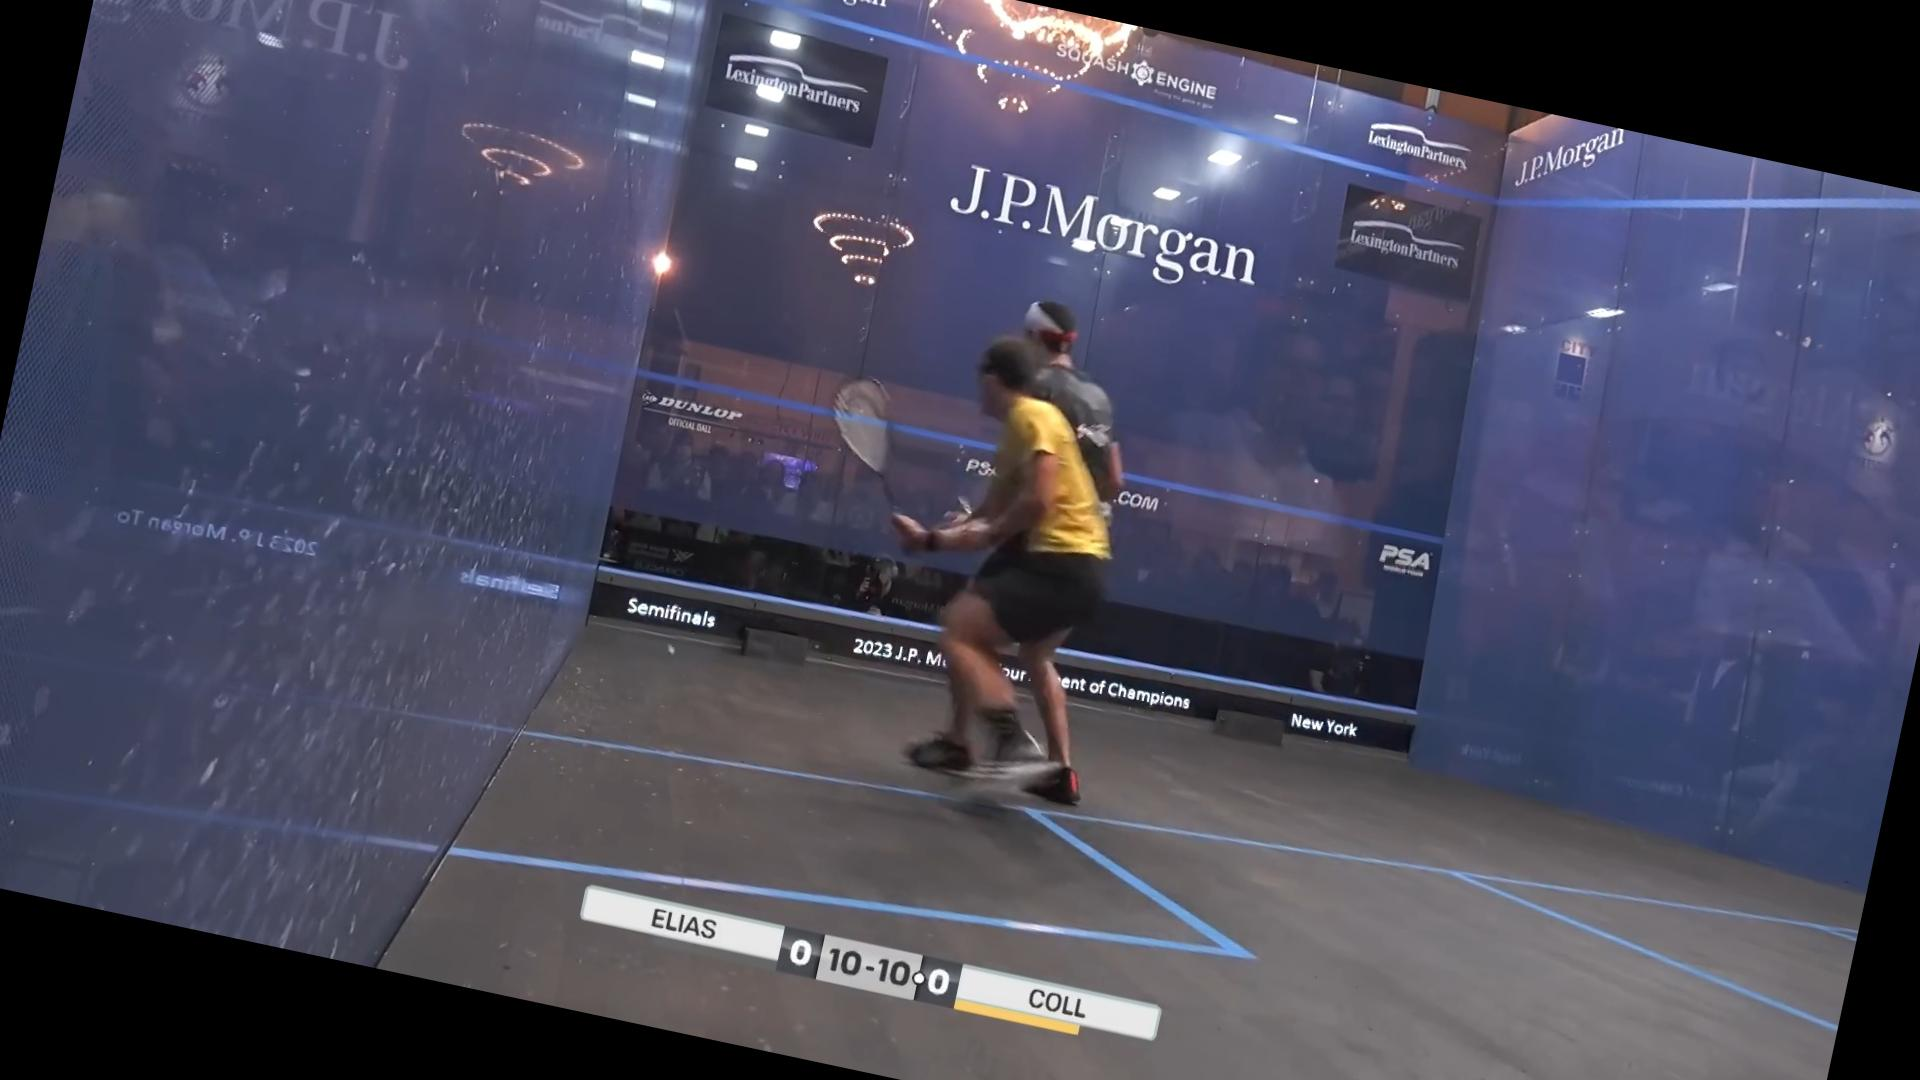Racket: (794, 357, 931, 518)
